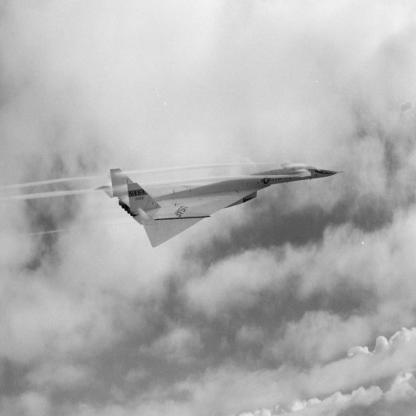XB70: (93, 163, 346, 249)
